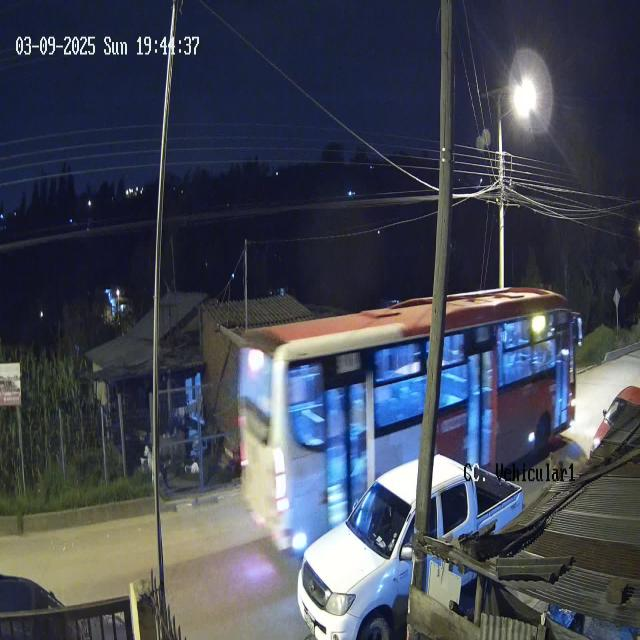BUS: (236, 285, 580, 532)
